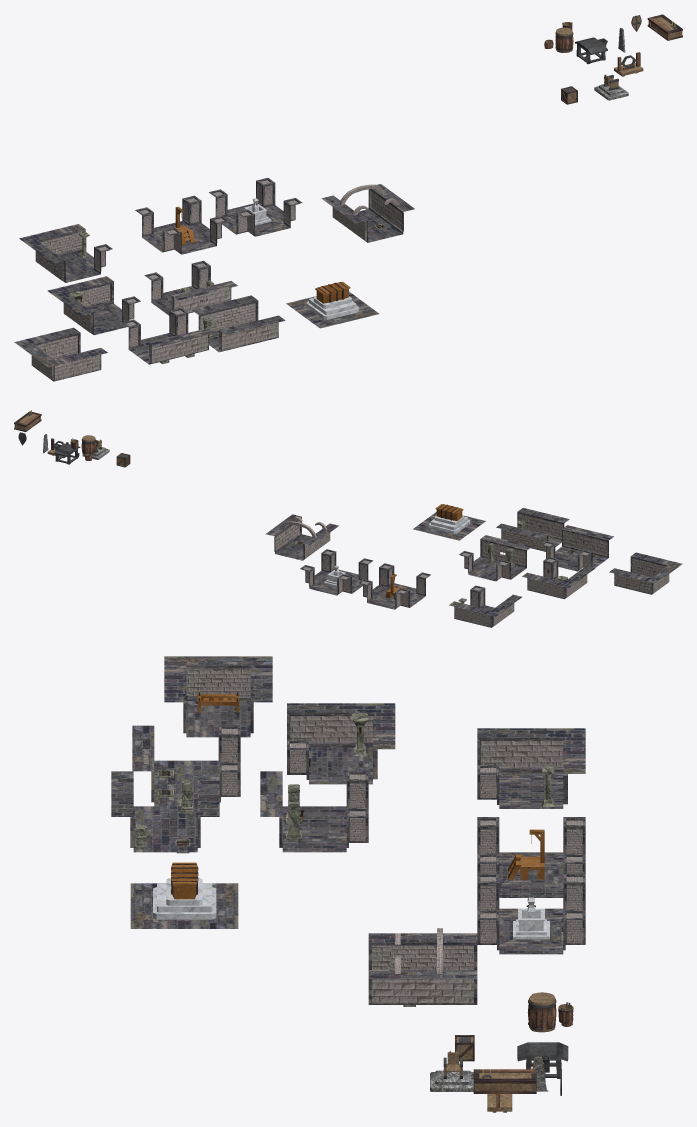
The model's file is tiles_pentru_mihai.FBX.
The picture shows the model from 3 angles, top to bottom: view 1: azimuth 30°, elevation 25°; view 2: azimuth 150°, elevation 25°; view 3: azimuth 270°, elevation 25°; orthographic projection. The views are drawn at different scales.
Parts seen in each view (by area): view 1: i_tile_02, l_tile_01, l_tile_02, i_tile_01, x_tile_01, end_tile, x_tile_02, Object001, t_tile_01, top_tile, metal_working_bench, table_with_candels; view 2: t_tile_01, Object001, i_tile_02, i_tile_01, x_tile_01, end_tile, x_tile_02, l_tile_01, l_tile_02, top_tile, metal_working_bench, table_with_candels; view 3: l_tile_01, i_tile_01, l_tile_02, end_tile, x_tile_02, t_tile_01, x_tile_01, i_tile_02, top_tile, Object001, table_with_candels, chair (+2 smaller).
Part boxes in pixels (x1,y1,x2,y2): i_tile_02: [192, 295, 285, 352]; l_tile_01: [19, 224, 112, 282]; l_tile_02: [47, 276, 140, 334]; i_tile_01: [321, 184, 414, 242]; x_tile_01: [135, 195, 228, 254]; end_tile: [14, 327, 107, 381]; x_tile_02: [209, 178, 302, 236]; Object001: [122, 307, 215, 364]; t_tile_01: [144, 260, 237, 315]; top_tile: [286, 281, 379, 328]; metal_working_bench: [575, 37, 607, 64]; table_with_candels: [647, 14, 682, 40]; t_tile_01: [459, 535, 532, 581]; Object001: [541, 525, 613, 571]; i_tile_02: [496, 508, 569, 551]; i_tile_01: [265, 514, 338, 560]; x_tile_01: [358, 563, 430, 609]; end_tile: [609, 552, 682, 594]; x_tile_02: [300, 549, 373, 595]; l_tile_01: [449, 585, 521, 627]; l_tile_02: [522, 557, 594, 599]; top_tile: [413, 504, 485, 540]; metal_working_bench: [54, 443, 80, 464]; table_with_candels: [14, 410, 41, 431]; l_tile_01: [477, 728, 585, 808]; i_tile_01: [368, 928, 477, 1006]; l_tile_02: [287, 703, 395, 784]; end_tile: [164, 656, 272, 737]; x_tile_02: [477, 873, 585, 954]; t_tile_01: [260, 771, 368, 852]; x_tile_01: [477, 817, 585, 897]; i_tile_02: [111, 771, 219, 853]; top_tile: [130, 862, 238, 928]; Object001: [132, 725, 240, 806]; table_with_candels: [473, 1069, 536, 1093]; chair: [430, 1051, 473, 1091].
Size of the model in its own units: 1718 by 260 by 612.
